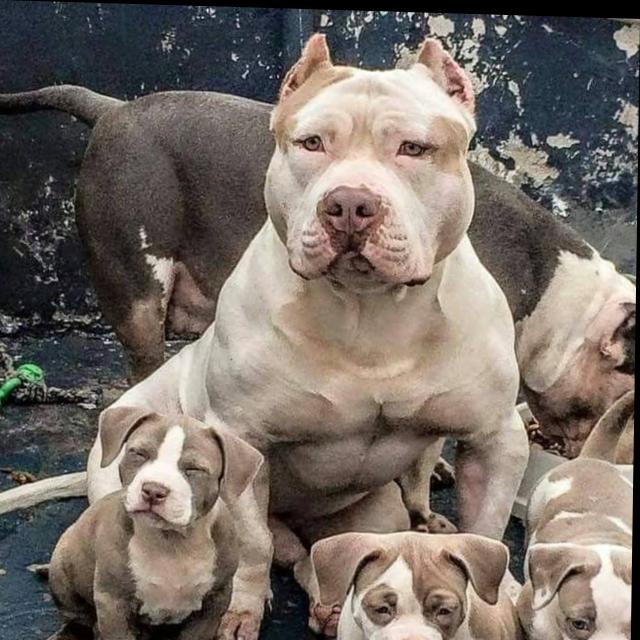amstaff: (1, 25, 536, 640), (1, 82, 640, 465), (36, 406, 278, 640), (518, 380, 636, 640), (299, 526, 535, 640)
